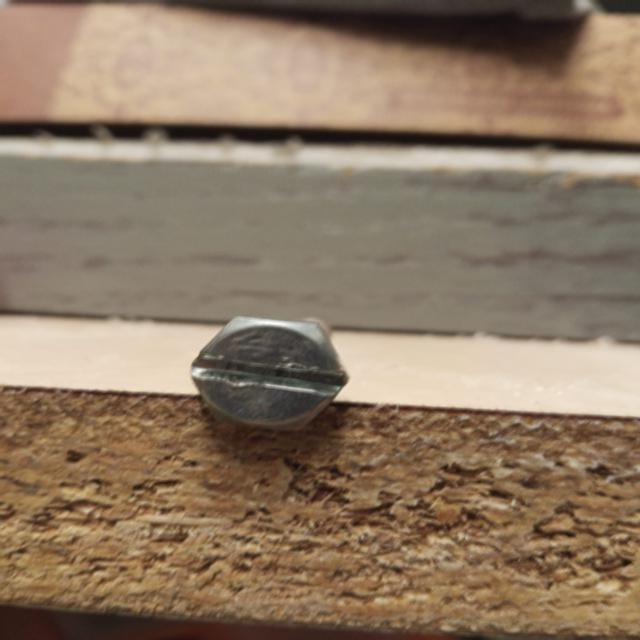duz: (188, 314, 348, 434)
